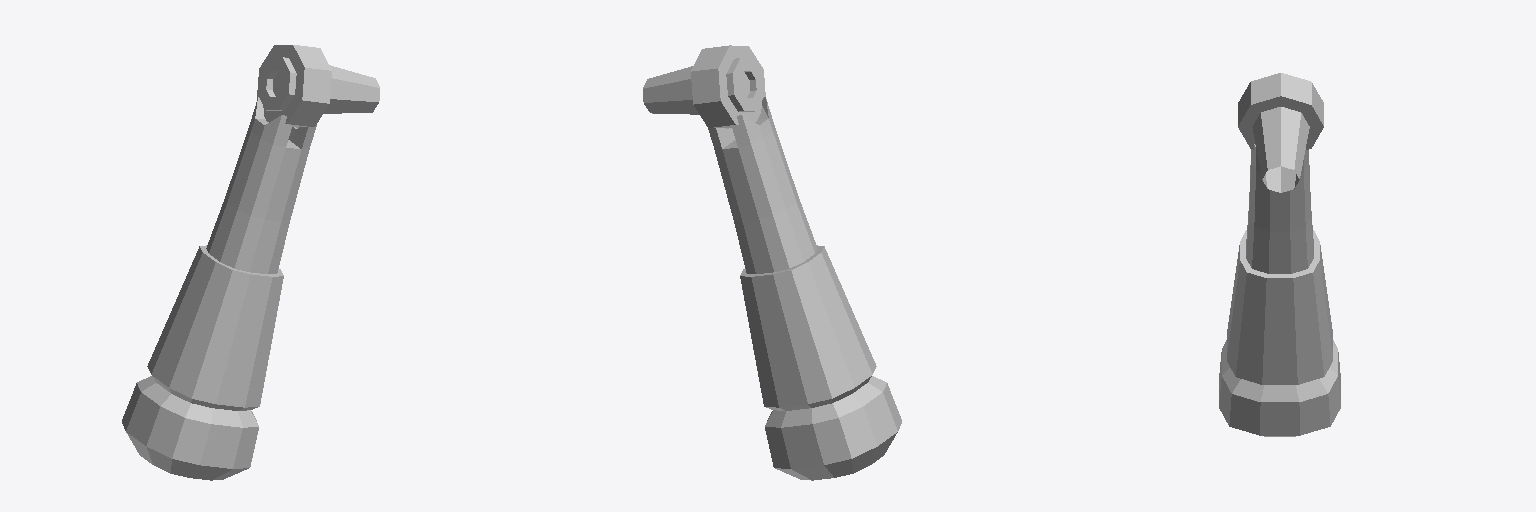
Rendered from Right-Arm.obj.
The picture shows the model from 3 angles: view 1: azimuth 30°, elevation 25°; view 2: azimuth 150°, elevation 25°; view 3: azimuth 270°, elevation 25°; orthographic projection.
Parts seen in each view (by area): view 1: Right-Arm_R02.007; view 2: Right-Arm_R02.007; view 3: Right-Arm_R02.007.
Boxes of the visible parts, x1,y1,x2,y2 form: Right-Arm_R02.007: [122, 45, 379, 480]; Right-Arm_R02.007: [643, 45, 901, 480]; Right-Arm_R02.007: [1219, 73, 1340, 436].
Bounding box in the file's own units: 2.63 × 4.23 × 1.16.